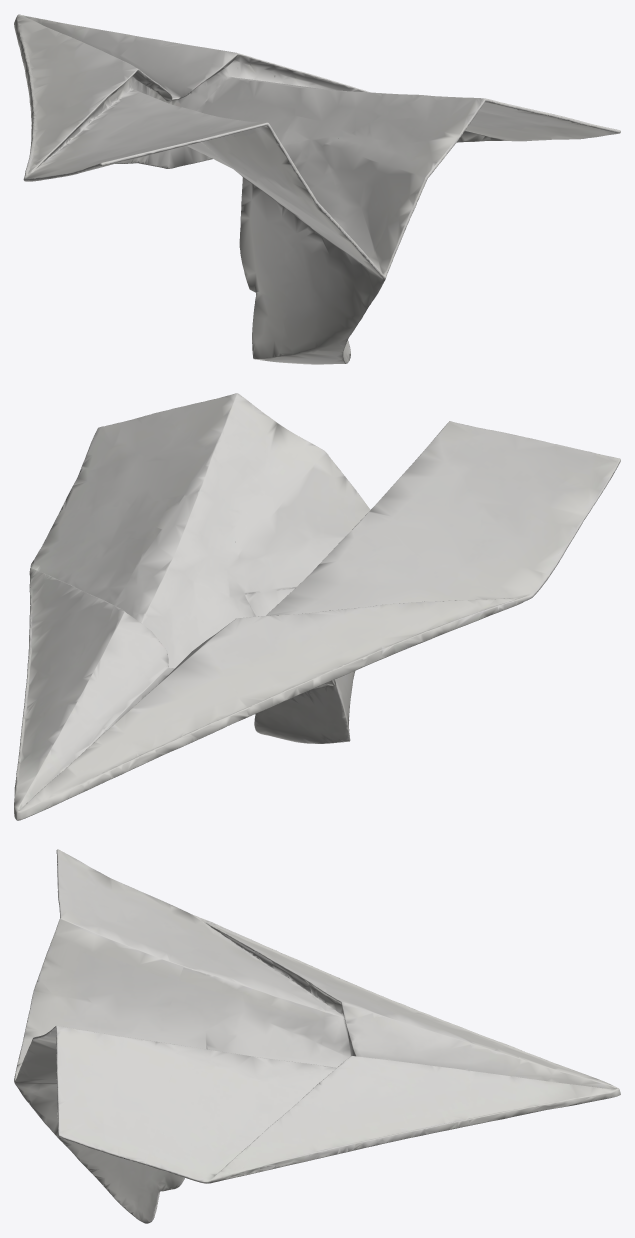
The model's file is rocket.glb.
3 views of the same model, one above another, from view 1: azimuth 30°, elevation 25°; view 2: azimuth 150°, elevation 25°; view 3: azimuth 270°, elevation 25° (orthographic). The views are drawn at different scales.
Parts seen in each view (by area): view 1: tripo_node_a6b53c08-f509-46cf-8acd-67c4b5a55584; view 2: tripo_node_a6b53c08-f509-46cf-8acd-67c4b5a55584; view 3: tripo_node_a6b53c08-f509-46cf-8acd-67c4b5a55584.
Part boxes in pixels (box(x1,y1,x2,y2)): tripo_node_a6b53c08-f509-46cf-8acd-67c4b5a55584: box(14, 14, 620, 364); tripo_node_a6b53c08-f509-46cf-8acd-67c4b5a55584: box(14, 393, 620, 820); tripo_node_a6b53c08-f509-46cf-8acd-67c4b5a55584: box(14, 849, 620, 1223).
Bounding box in the file's own units: 0.8127 × 0.4617 × 0.9999.
Materials: 1 (1 with a texture image).
